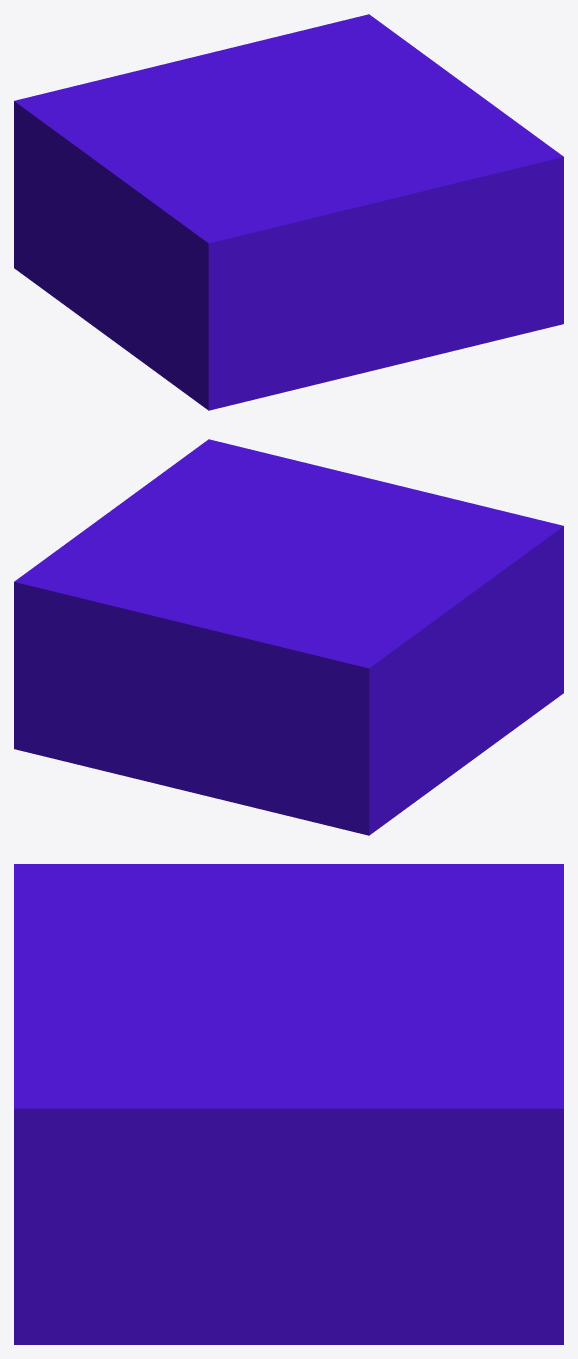
The model's file is checkerboard_obstacle.fbx.
3 views of the same model, one above another, from view 1: azimuth 30°, elevation 25°; view 2: azimuth 150°, elevation 25°; view 3: azimuth 270°, elevation 25° (orthographic). The views are drawn at different scales.
Parts seen in each view (by area): view 1: Plane; view 2: Plane; view 3: Plane.
Part boxes in pixels (x1,y1,x2,y2): Plane: [14, 14, 563, 410]; Plane: [14, 439, 563, 835]; Plane: [14, 864, 563, 1344].
Bounding box in the file's own units: 66.67 × 30 × 63.33.
